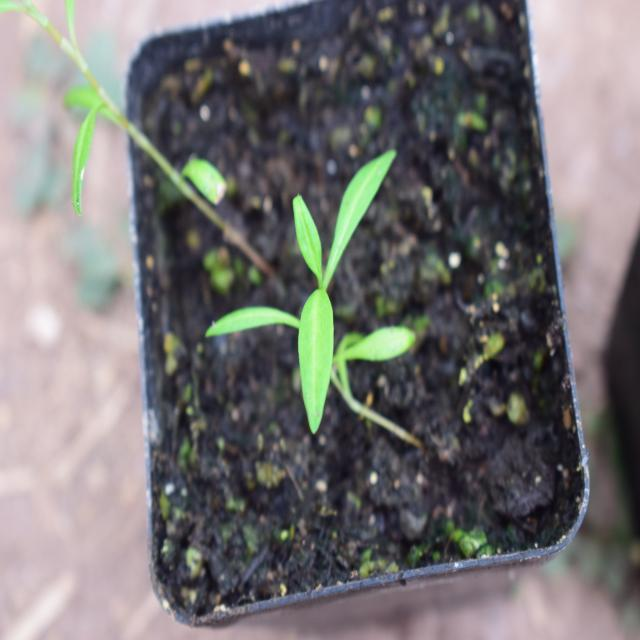white_smart_weed: (210, 134, 417, 443)
